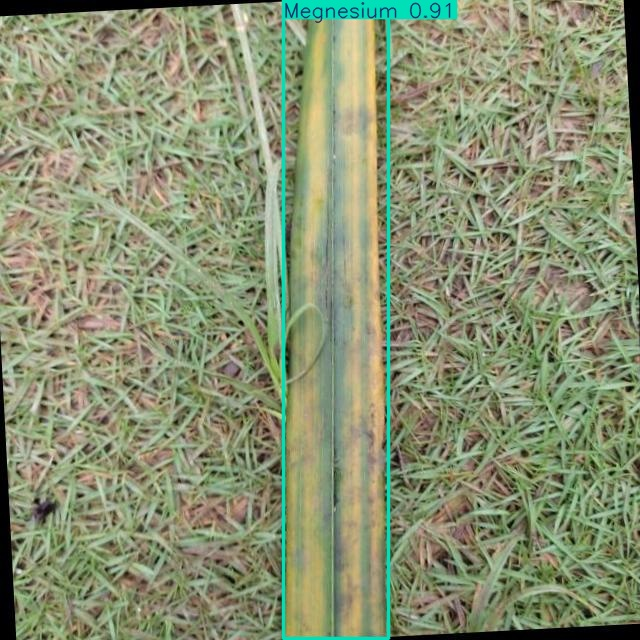Megnesium: (283, 1, 388, 638)
